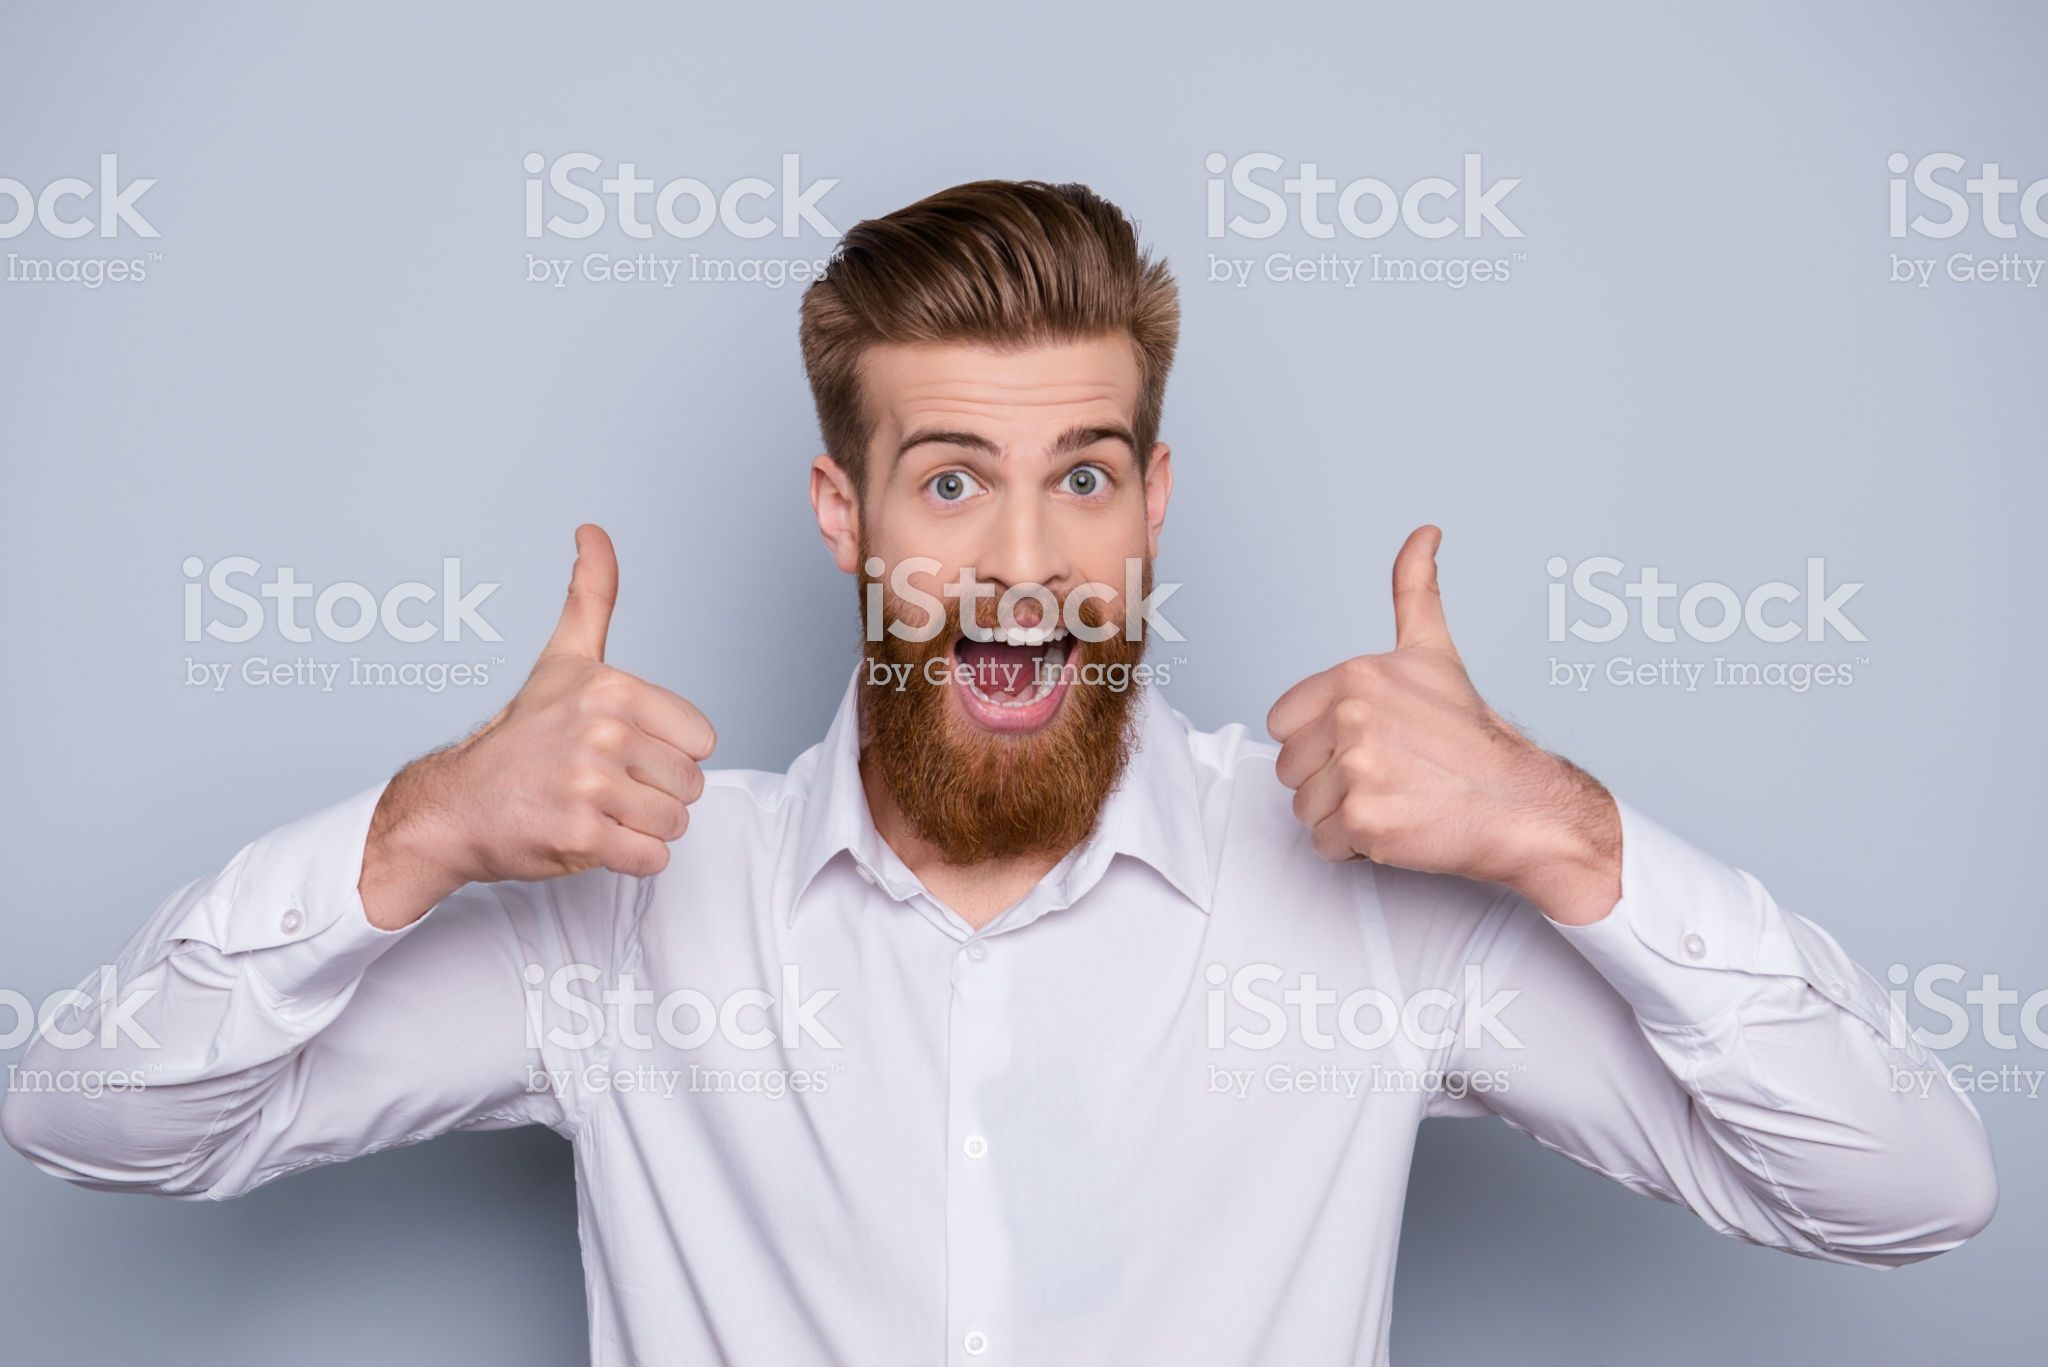thumbsup: (473, 520, 721, 886), (1263, 520, 1481, 883)
